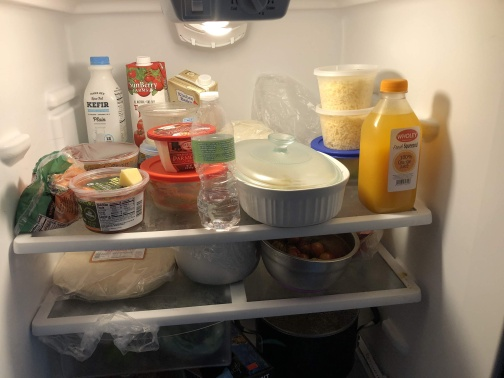bottle: (190, 91, 245, 233)
